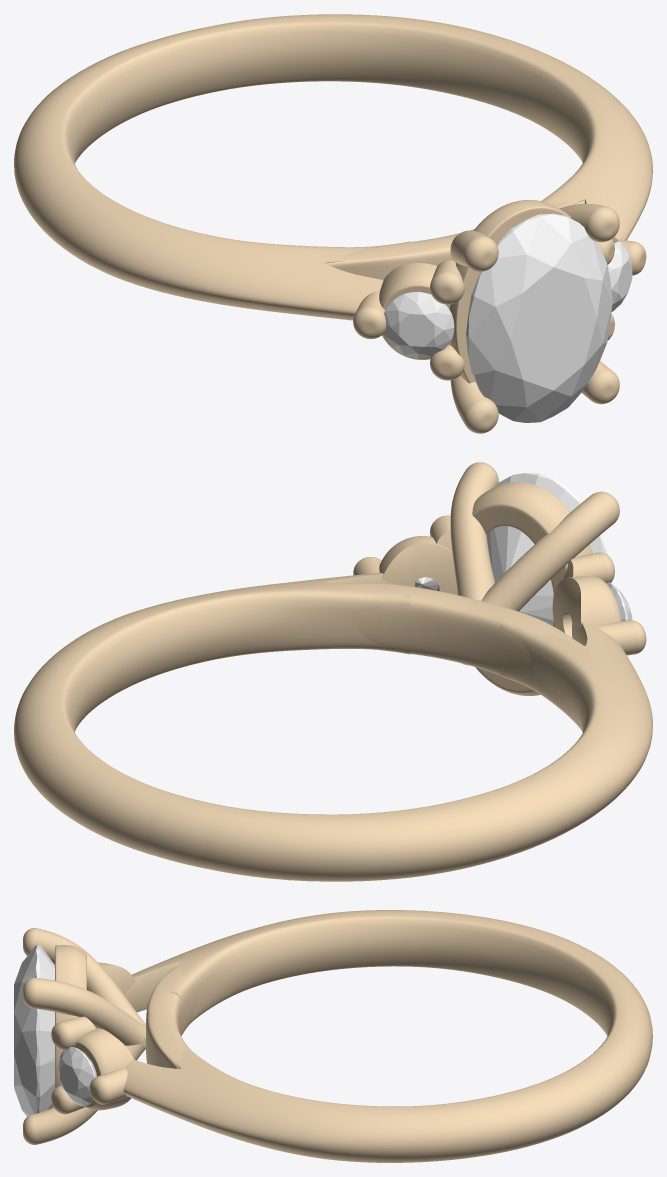
Rendered from asa.glb.
3 renders of one model, top to bottom at view 1: azimuth 30°, elevation 25°; view 2: azimuth 150°, elevation 25°; view 3: azimuth 270°, elevation 25°, orthographic. The views are drawn at different scales.
Parts seen in each view (by area): view 1: Q_93946_R45655_V_23dm; view 2: Q_93946_R45655_V_23dm; view 3: Q_93946_R45655_V_23dm.
Part boxes in pixels (x1=…): Q_93946_R45655_V_23dm: x1=14, y1=14, x2=652, y2=433; Q_93946_R45655_V_23dm: x1=14, y1=462, x2=652, y2=881; Q_93946_R45655_V_23dm: x1=14, y1=910, x2=652, y2=1162.
Bounding box in the file's own units: 2.5 × 0.8941 × 2.99.
